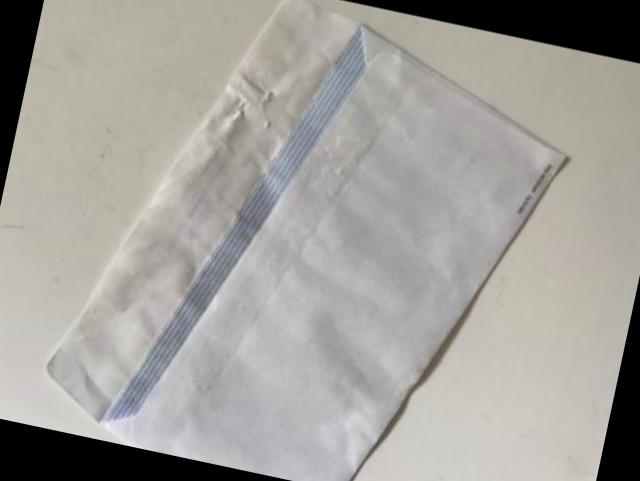cardboard paper: (46, 0, 564, 481)
